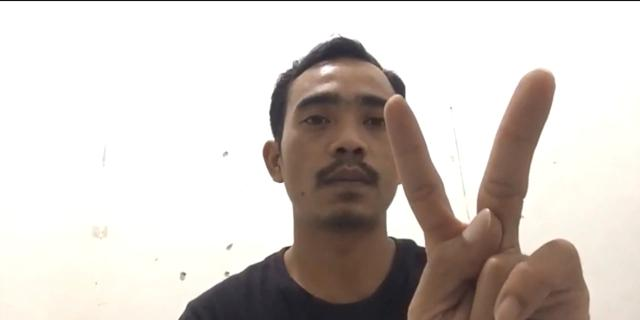K: (374, 61, 606, 320)
